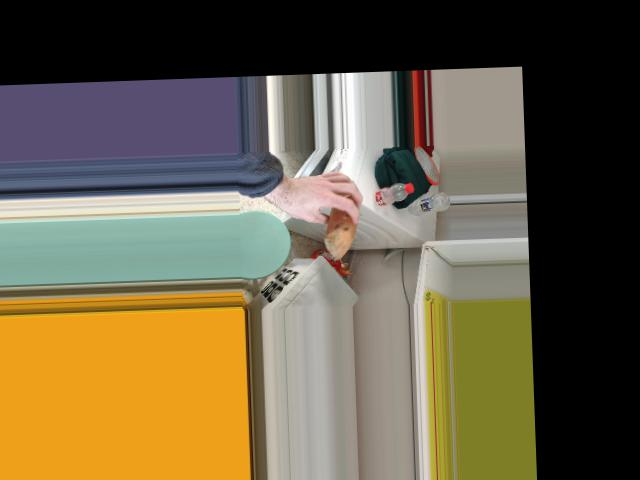sweet_potato: (324, 187, 357, 257)
